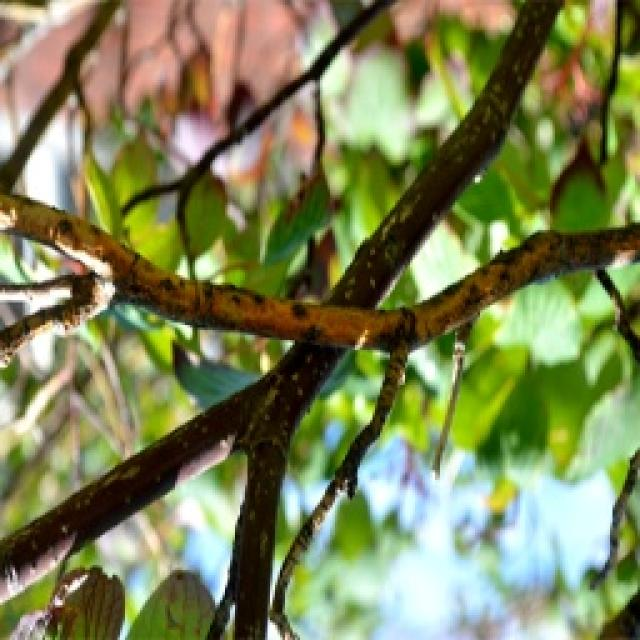Golden_canker: (0, 115, 640, 584)
